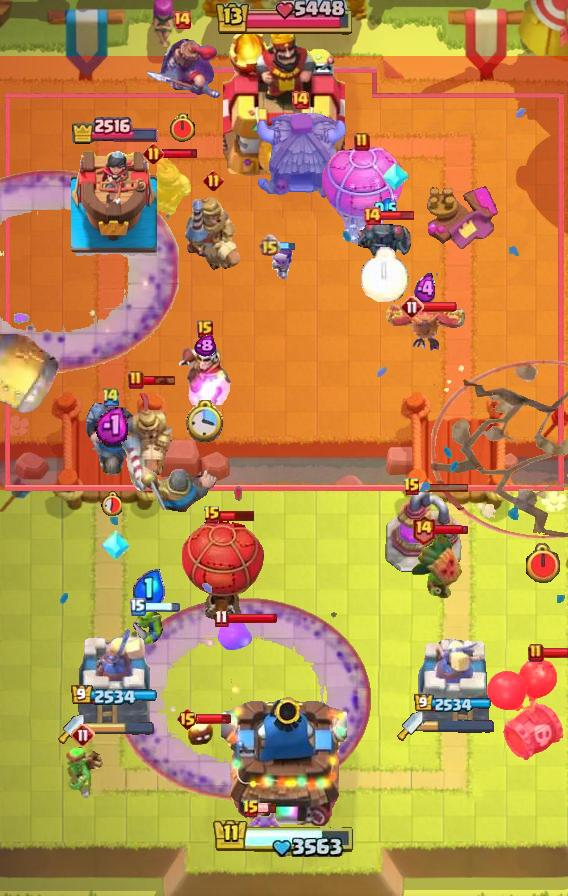bar: (75, 623, 153, 731), (416, 637, 490, 731)
barbarian: (233, 809, 293, 847)
battle-ram: (355, 218, 415, 264)
bomber: (186, 718, 214, 746)
cannon-cart: (318, 140, 406, 248), (182, 519, 266, 621)
clock: (212, 818, 356, 860), (213, 0, 355, 38)
dirt: (0, 326, 62, 418)
earthquake: (141, 155, 193, 219)
electro-spirit: (95, 404, 129, 443), (131, 568, 164, 608), (414, 273, 438, 305), (374, 196, 397, 220), (194, 335, 216, 357)
elixir: (361, 247, 409, 302), (186, 400, 224, 444), (524, 543, 562, 585), (169, 113, 196, 143), (101, 491, 122, 517)
elixir-golem-big: (141, 32, 223, 100)
emote: (226, 612, 278, 624), (418, 483, 470, 494), (219, 510, 256, 523), (161, 148, 198, 160), (143, 601, 180, 613), (422, 301, 458, 313), (141, 374, 177, 386), (433, 524, 469, 536), (196, 713, 232, 725), (380, 210, 415, 221), (542, 647, 568, 659), (258, 803, 278, 814), (278, 240, 296, 252)
firecracker: (136, 466, 222, 518)
giant-snowball: (63, 746, 103, 800)
goblin: (271, 244, 295, 280)
goblin-barrel: (410, 531, 466, 603)
golden-knight: (385, 303, 467, 353)
guard: (432, 360, 568, 539)
inferno-dragon: (83, 398, 139, 478)
king-tower: (223, 27, 345, 181), (221, 690, 347, 826)
king-tower-bar: (423, 719, 495, 733), (84, 722, 154, 736)
miner: (217, 622, 253, 652)
pad_2: (102, 528, 130, 562), (382, 161, 410, 193)
pekka: (385, 492, 463, 574)
prince: (253, 111, 347, 201)
queen-tower: (71, 144, 157, 255)
ram-rider: (117, 385, 175, 495), (181, 194, 245, 272)
rocket: (116, 597, 372, 801), (1, 169, 180, 373)
royal-recruit-evolution: (486, 658, 568, 764)
selected: (69, 115, 158, 145), (70, 685, 157, 707), (414, 694, 492, 714)
skeleton-king: (177, 341, 233, 405)
text: (412, 515, 437, 546), (400, 295, 424, 319), (71, 723, 95, 747), (177, 707, 200, 731), (258, 235, 281, 258), (144, 143, 165, 165), (204, 169, 225, 191), (101, 385, 121, 406), (172, 10, 192, 30), (290, 90, 310, 110), (362, 206, 382, 226), (403, 477, 421, 497), (203, 505, 221, 525), (242, 799, 260, 819), (354, 132, 370, 152), (128, 370, 144, 390), (528, 643, 544, 663), (197, 320, 213, 338), (130, 598, 146, 616), (215, 609, 229, 627)
zap: (128, 608, 168, 646)
